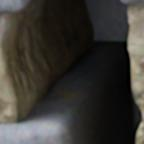brick: (0, 122, 68, 143)
broken_brick: (0, 0, 30, 13), (121, 0, 143, 4)
crack: (0, 0, 142, 143)
